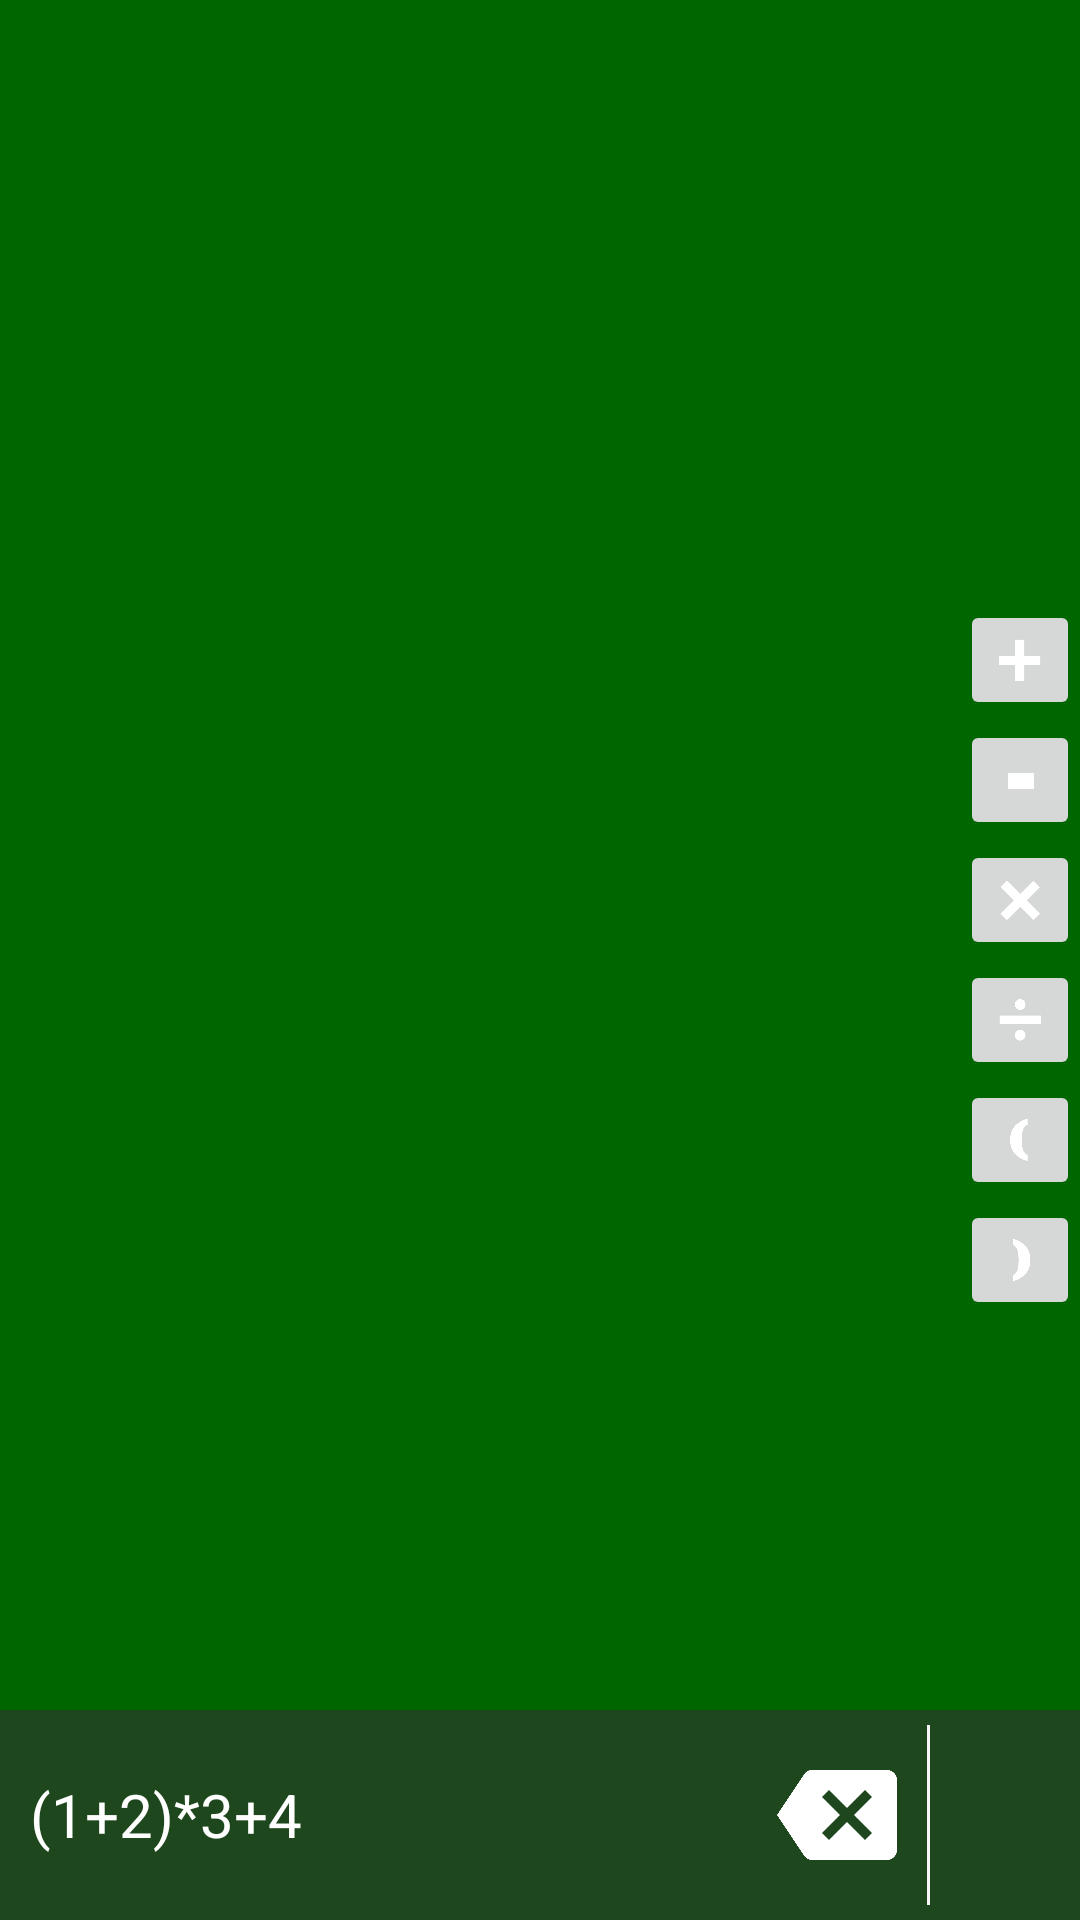

Screen size 1080 × 1920. Icon name, then its center in pixels as point (x, y):
game operator divide: point (1020, 1020)
game operator left bracket: point (1020, 1140)
game operator minus: point (1020, 780)
game operator multiply: point (1020, 900)
game operator plus: point (1020, 660)
operator right bracket: point (1020, 1260)
